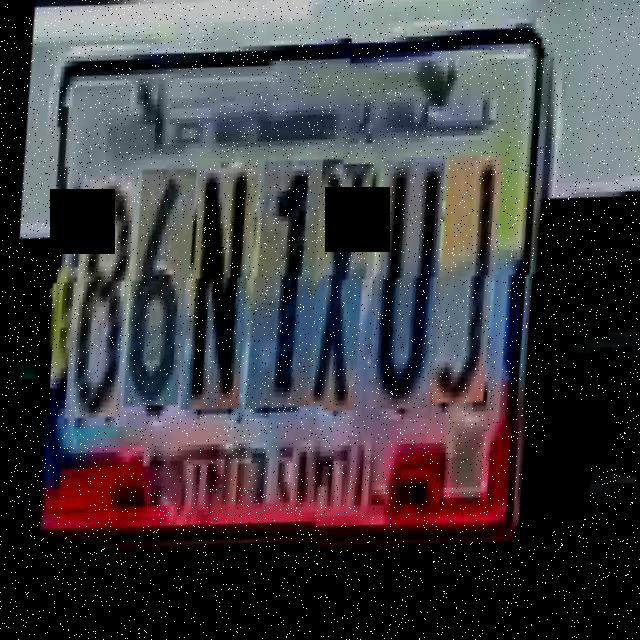1: (234, 166, 330, 426)
6: (112, 172, 205, 420)
8: (54, 177, 146, 430)
J: (418, 162, 511, 420)
N: (170, 171, 265, 426)
U: (356, 161, 453, 426)
X: (291, 168, 382, 425)
